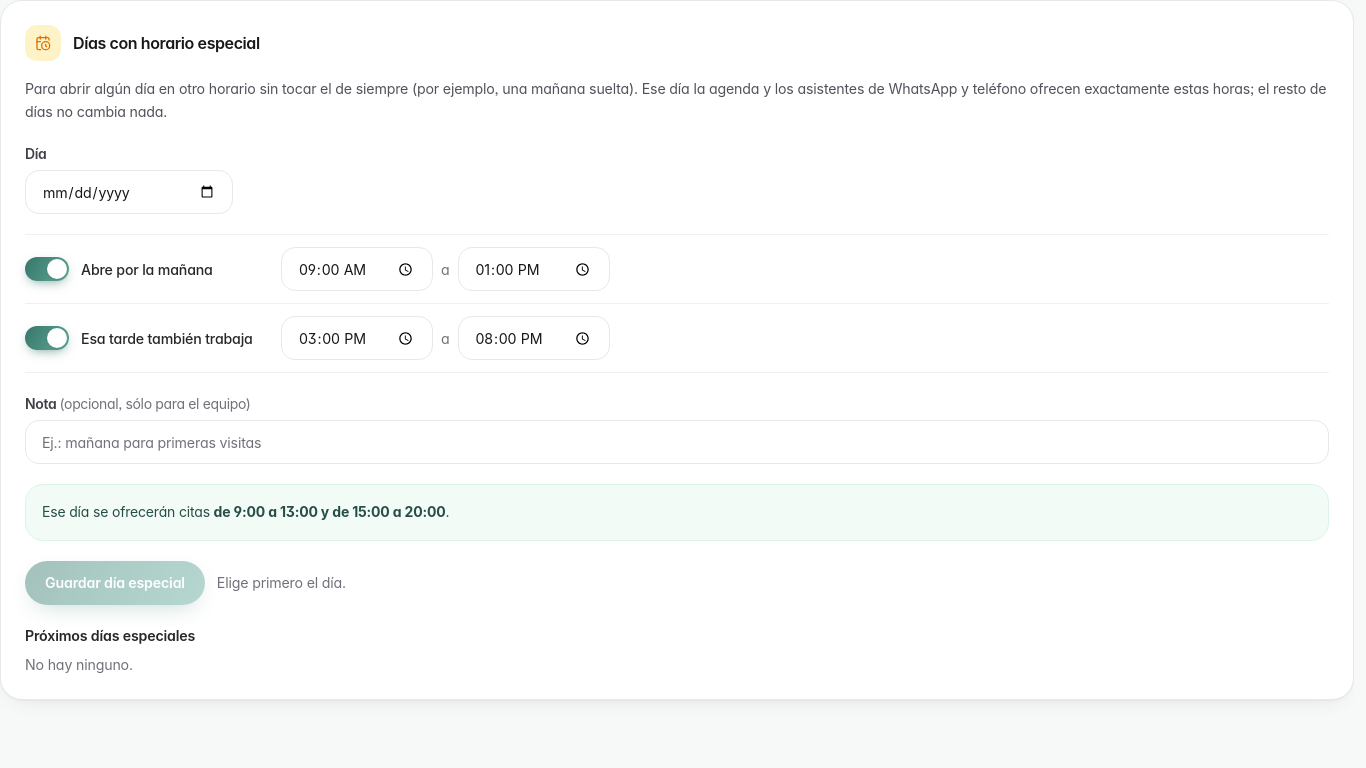
Test: tarjeta "Días con horario especial" › un sábado (normalmente cerrado) propone sólo la mañana y lo avisa
The width and height of the screenshot is (1366, 768).
Type "2026-11-21" into the date field labelled "Día" at (129, 192), box [25,170,233,214]
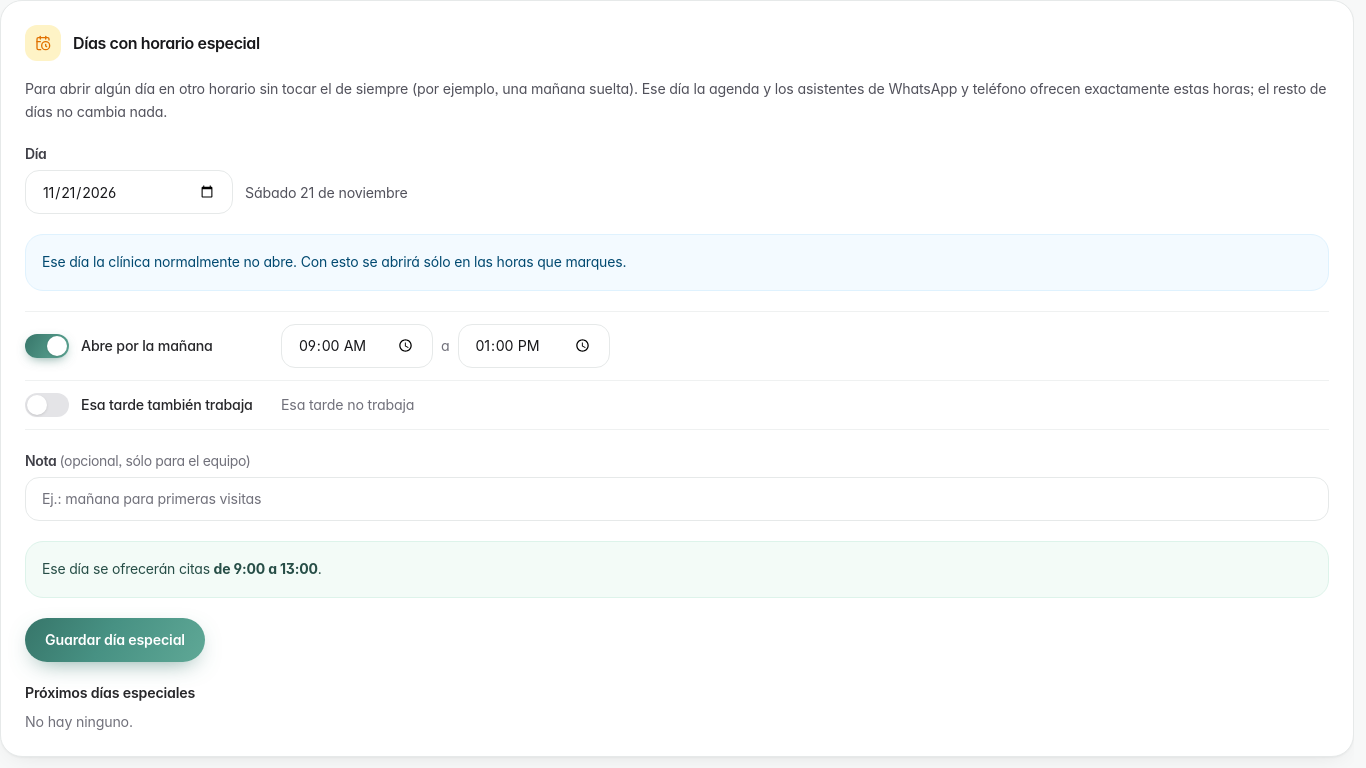
Expected: the text "de 9:00 a 13:00" is shown, [214,560,318,577]
Result: the text "normalmente no abre" is shown at [42,253,626,270]
Result: the text "Esa tarde no trabaja" is shown at [281,396,414,413]
